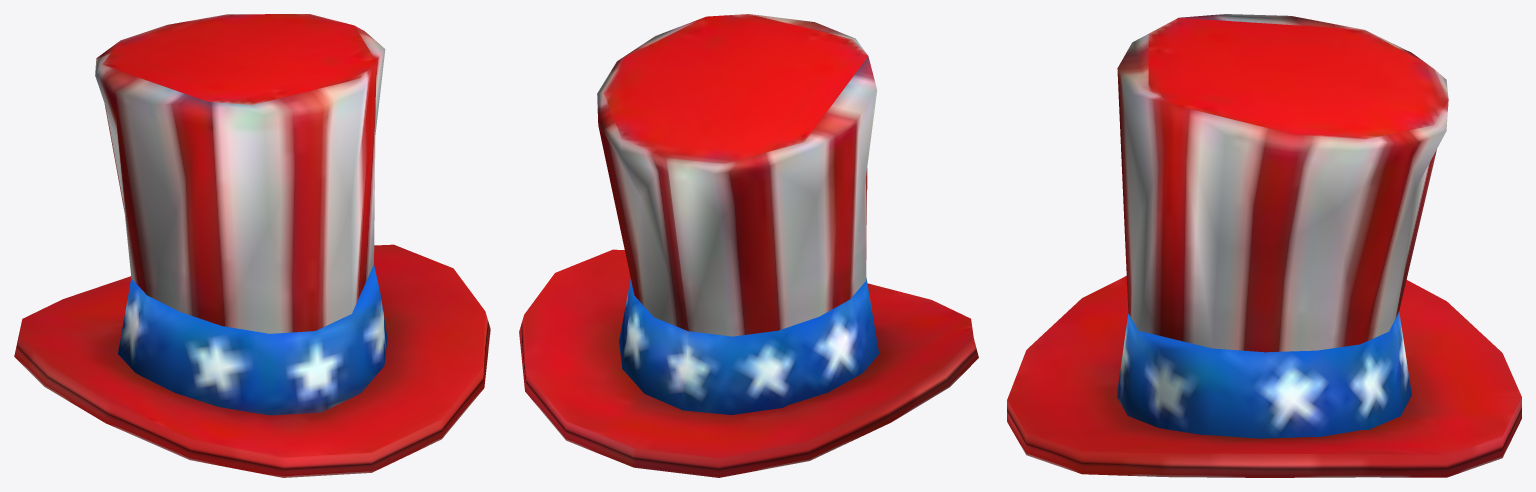
File: American_Hat.glb
3 renders of one model, left to right at view 1: azimuth 30°, elevation 25°; view 2: azimuth 150°, elevation 25°; view 3: azimuth 270°, elevation 25°, orthographic. The views are drawn at different scales.
Parts seen in each view (by area): view 1: American_Hat; view 2: American_Hat; view 3: American_Hat.
Boxes of the visible parts, <box> form: American_Hat: <box>14,14,490,477</box>; American_Hat: <box>519,14,978,477</box>; American_Hat: <box>1007,14,1521,477</box>.
Size of the model in its own units: 0.7056 by 0.54 by 0.7003.
Materials: 1 (1 with a texture image).
